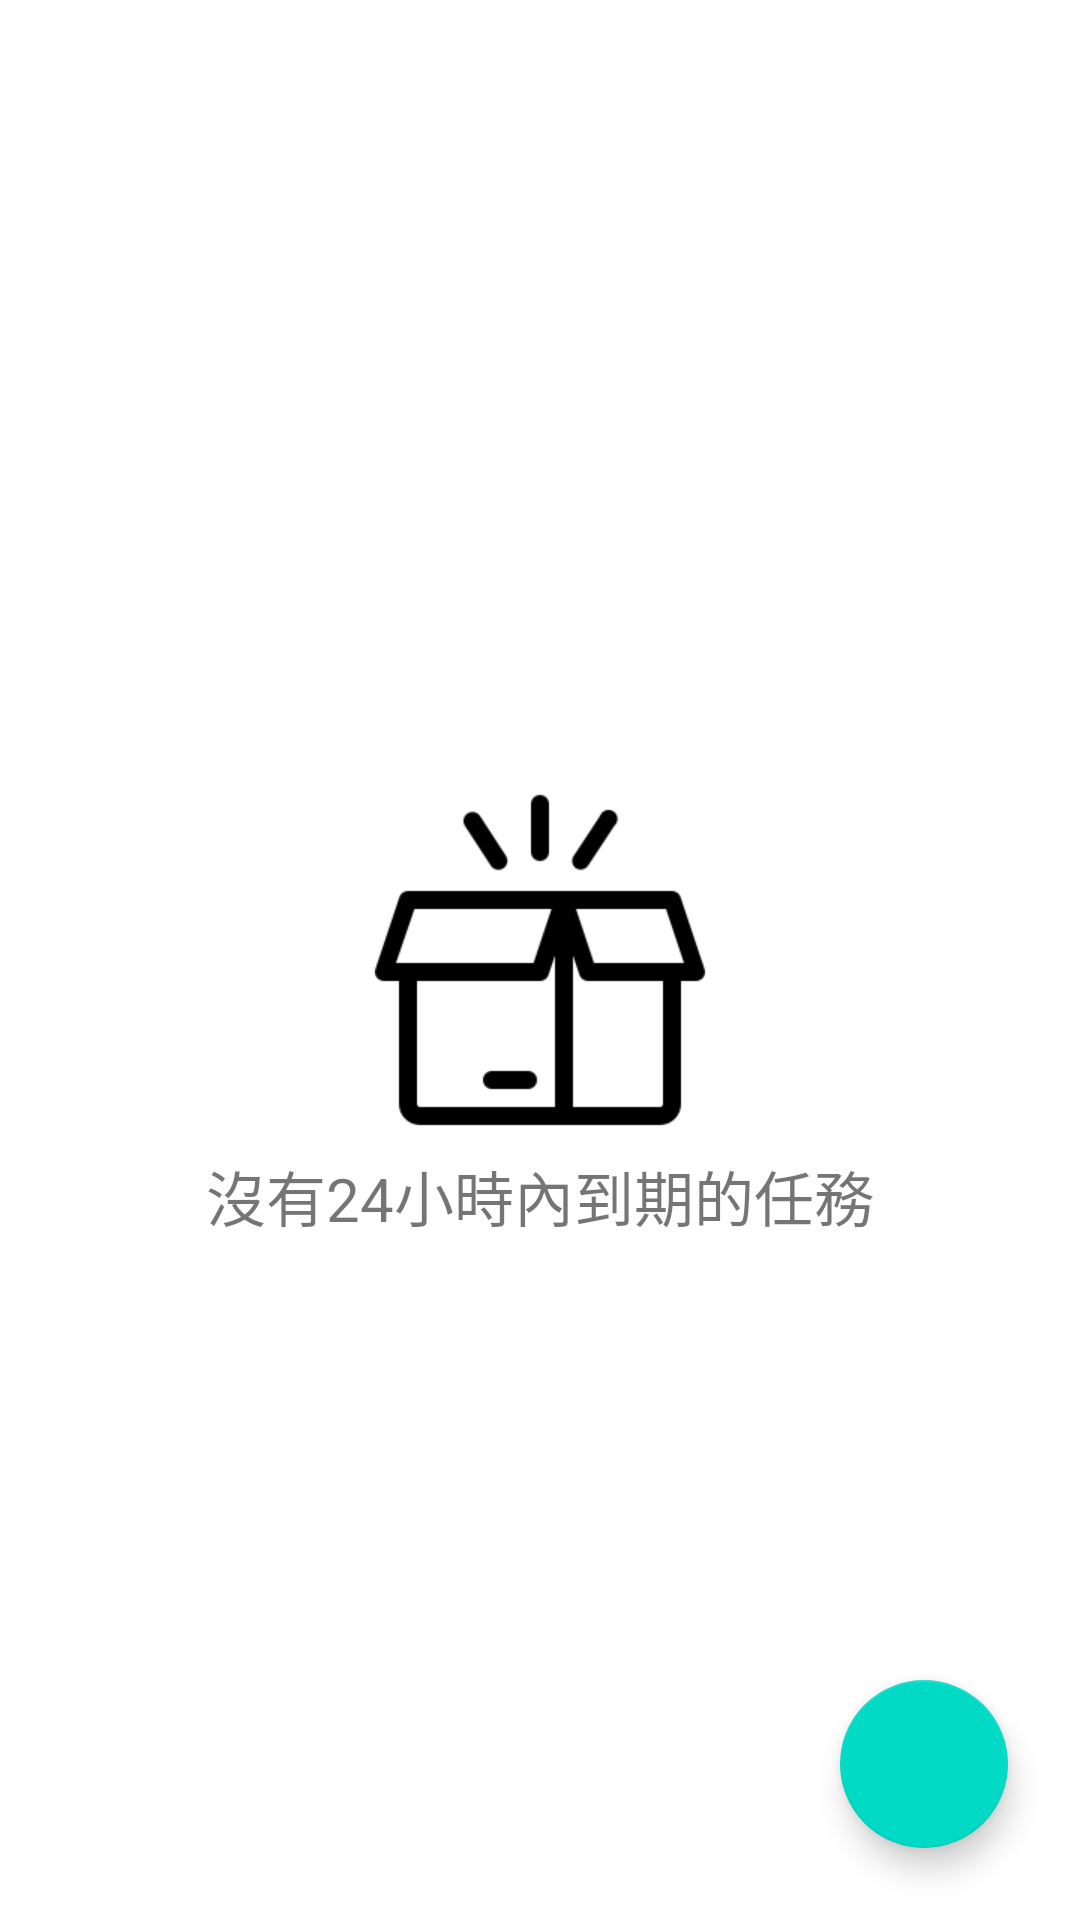

Icon bounding boxes for this 1080x1920 phone screenshot, format (x1, y1, x2, y2):
box empty: (374, 794, 706, 1126)
